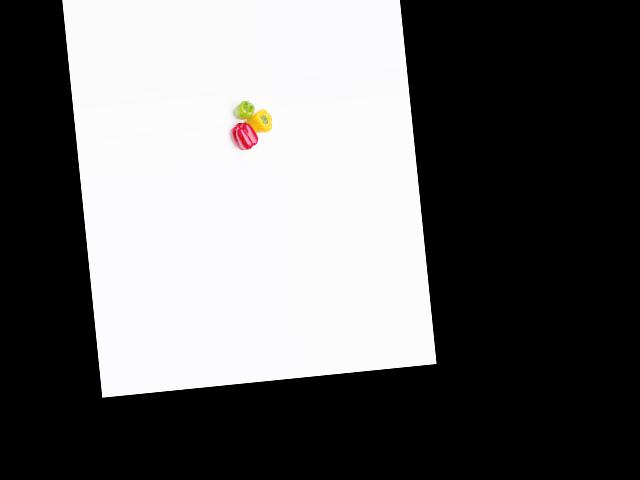bell_pepper: (231, 95, 257, 121)
